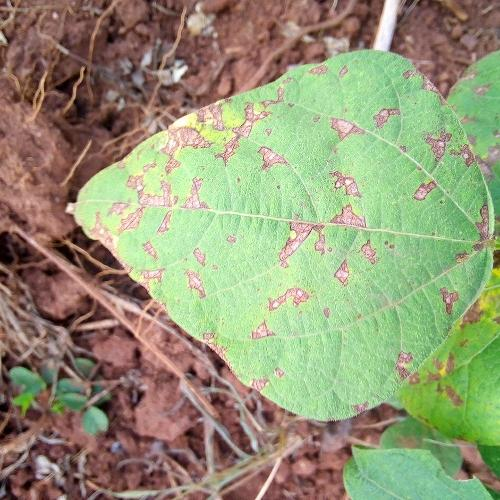hawar: (79, 87, 477, 347)
